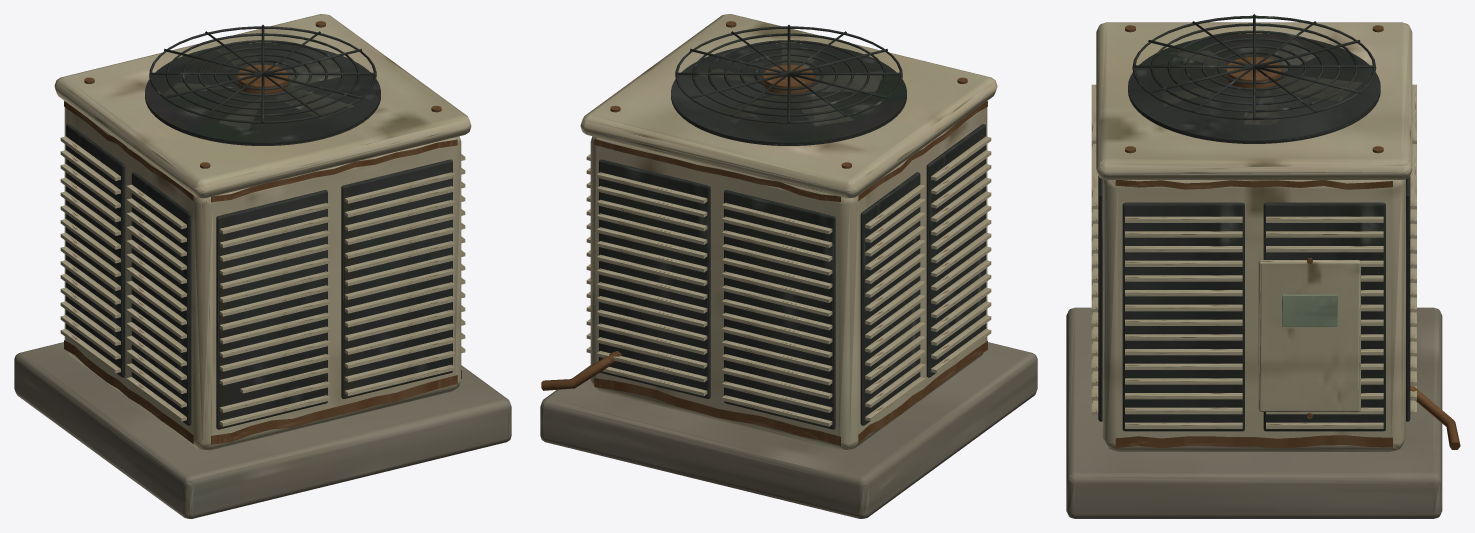
The model's file is by_ac_unit.glb.
The picture shows the model from 3 angles, left to right: view 1: azimuth 30°, elevation 25°; view 2: azimuth 150°, elevation 25°; view 3: azimuth 270°, elevation 25°; orthographic projection. The views are drawn at different scales.
Parts seen in each view (by area): view 1: by_ac_unit; view 2: by_ac_unit; view 3: by_ac_unit.
Boxes of the visible parts, x1,y1,x2,y2 form: by_ac_unit: (14, 14, 511, 518); by_ac_unit: (540, 14, 1037, 518); by_ac_unit: (1066, 14, 1460, 518).
Size of the model in its own units: 0.95 by 0.9585 by 0.9229.
1 material, 1 textured.
